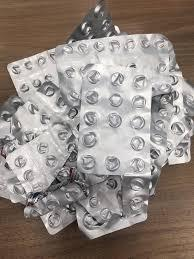pill_Strip: (55, 34, 168, 106), (78, 65, 150, 174), (8, 49, 64, 121), (6, 131, 72, 192), (11, 101, 72, 143), (76, 204, 146, 238), (150, 95, 172, 195), (67, 0, 119, 42), (68, 2, 119, 41), (79, 176, 121, 222), (11, 102, 47, 143), (122, 175, 150, 221), (0, 156, 25, 203), (41, 207, 75, 234), (168, 129, 192, 164), (168, 130, 192, 164), (7, 177, 26, 204)
